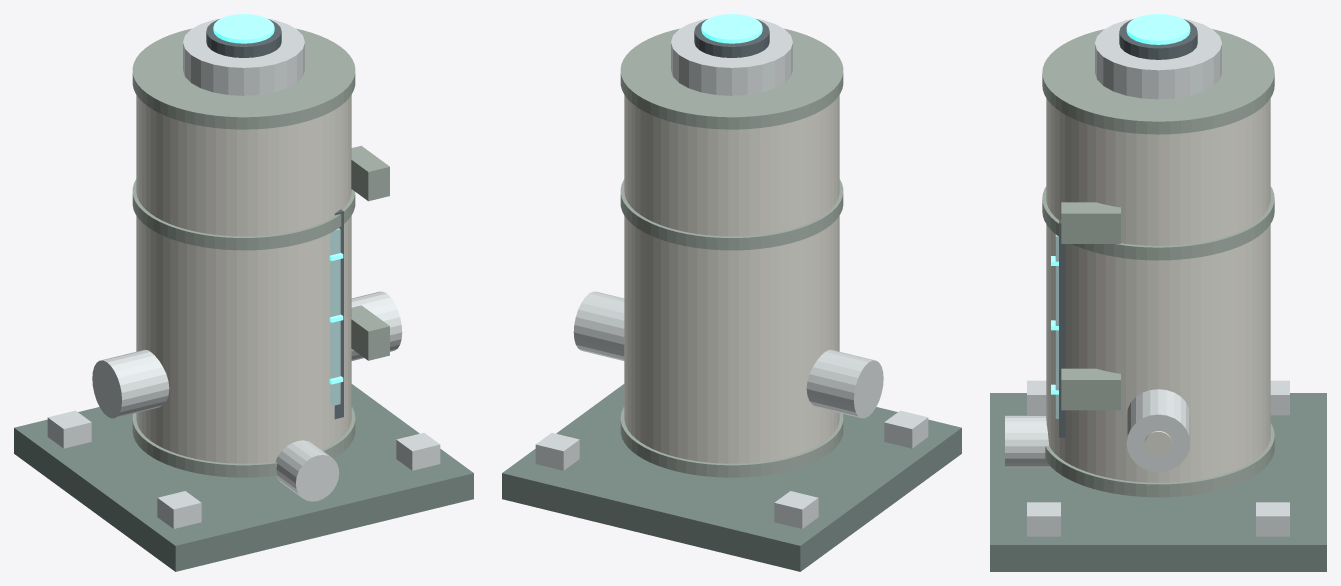
Rendered from s7-i01-reservoir-buffer.glb.
3 views of the same model, side by side, from view 1: azimuth 30°, elevation 25°; view 2: azimuth 150°, elevation 25°; view 3: azimuth 270°, elevation 25° (orthographic). The views are drawn at different scales.
Parts seen in each view (by area): view 1: 005_sealed_cleanwater_tank_shell, 000_reinforced_industrial_base, 008_reinforcement_ring, 009_top_cleanable_fill_fitting, 018_water_return, 007_reinforcement_ring, 022_drain_valve, 006_reinforcement_ring, 013_translucent_level_strip, 023_inspection_rail, 024_inspection_rail, 011_top_status_emitter (+6 smaller); view 2: 005_sealed_cleanwater_tank_shell, 000_reinforced_industrial_base, 008_reinforcement_ring, 009_top_cleanable_fill_fitting, 018_water_return, 007_reinforcement_ring, 006_reinforcement_ring, 017_water_outlet, 011_top_status_emitter, 010_fill_seal, 001_mounting_foot, 003_mounting_foot (+1 smaller); view 3: 005_sealed_cleanwater_tank_shell, 000_reinforced_industrial_base, 008_reinforcement_ring, 009_top_cleanable_fill_fitting, 017_water_outlet, 006_reinforcement_ring, 007_reinforcement_ring, 023_inspection_rail, 024_inspection_rail, 022_drain_valve, 011_top_status_emitter, 010_fill_seal (+7 smaller).
Boxes of the visible parts, x1,y1,x2,y2 form: 005_sealed_cleanwater_tank_shell: [136, 95, 351, 463]; 000_reinforced_industrial_base: [14, 384, 473, 571]; 008_reinforcement_ring: [132, 28, 355, 129]; 009_top_cleanable_fill_fitting: [183, 18, 304, 95]; 018_water_return: [92, 349, 169, 418]; 007_reinforcement_ring: [132, 179, 355, 250]; 022_drain_valve: [275, 440, 339, 501]; 006_reinforcement_ring: [132, 407, 355, 477]; 013_translucent_level_strip: [330, 228, 340, 406]; 023_inspection_rail: [351, 305, 389, 360]; 024_inspection_rail: [351, 145, 389, 201]; 011_top_status_emitter: [213, 14, 274, 43]; 005_sealed_cleanwater_tank_shell: [624, 95, 839, 463]; 000_reinforced_industrial_base: [502, 384, 961, 571]; 008_reinforcement_ring: [620, 28, 843, 129]; 009_top_cleanable_fill_fitting: [671, 18, 792, 95]; 018_water_return: [806, 349, 883, 418]; 007_reinforcement_ring: [620, 179, 843, 250]; 006_reinforcement_ring: [620, 407, 843, 477]; 017_water_outlet: [573, 291, 624, 360]; 011_top_status_emitter: [701, 14, 762, 43]; 010_fill_seal: [694, 19, 769, 57]; 001_mounting_foot: [774, 491, 818, 528]; 003_mounting_foot: [535, 433, 579, 470]; 005_sealed_cleanwater_tank_shell: [1046, 98, 1270, 482]; 000_reinforced_industrial_base: [990, 393, 1326, 571]; 008_reinforcement_ring: [1042, 29, 1274, 134]; 009_top_cleanable_fill_fitting: [1095, 19, 1221, 99]; 017_water_outlet: [1126, 389, 1190, 471]; 006_reinforcement_ring: [1045, 423, 1274, 497]; 007_reinforcement_ring: [1042, 186, 1274, 260]; 023_inspection_rail: [1061, 368, 1120, 410]; 024_inspection_rail: [1061, 202, 1120, 243]; 022_drain_valve: [1005, 415, 1049, 467]; 011_top_status_emitter: [1126, 14, 1190, 44]; 010_fill_seal: [1119, 19, 1197, 59].
Size of the model in its own units: 0.96 by 1.38 by 0.9.
